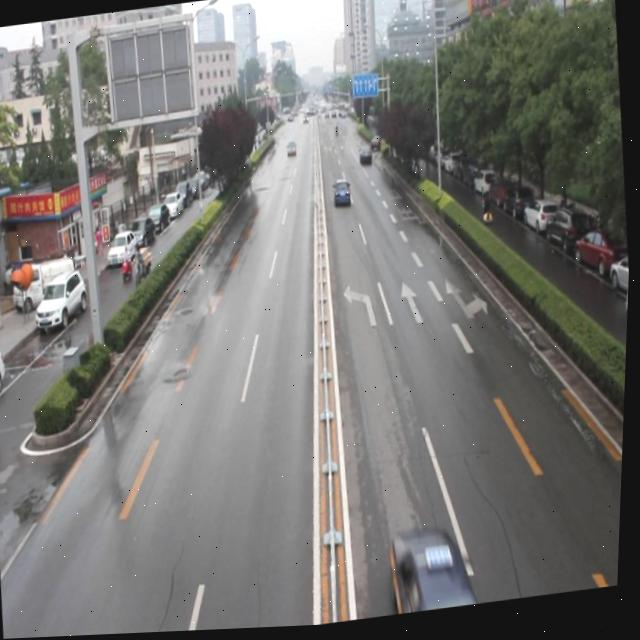car: (389, 527, 486, 619), (332, 179, 352, 209), (358, 149, 374, 168)
